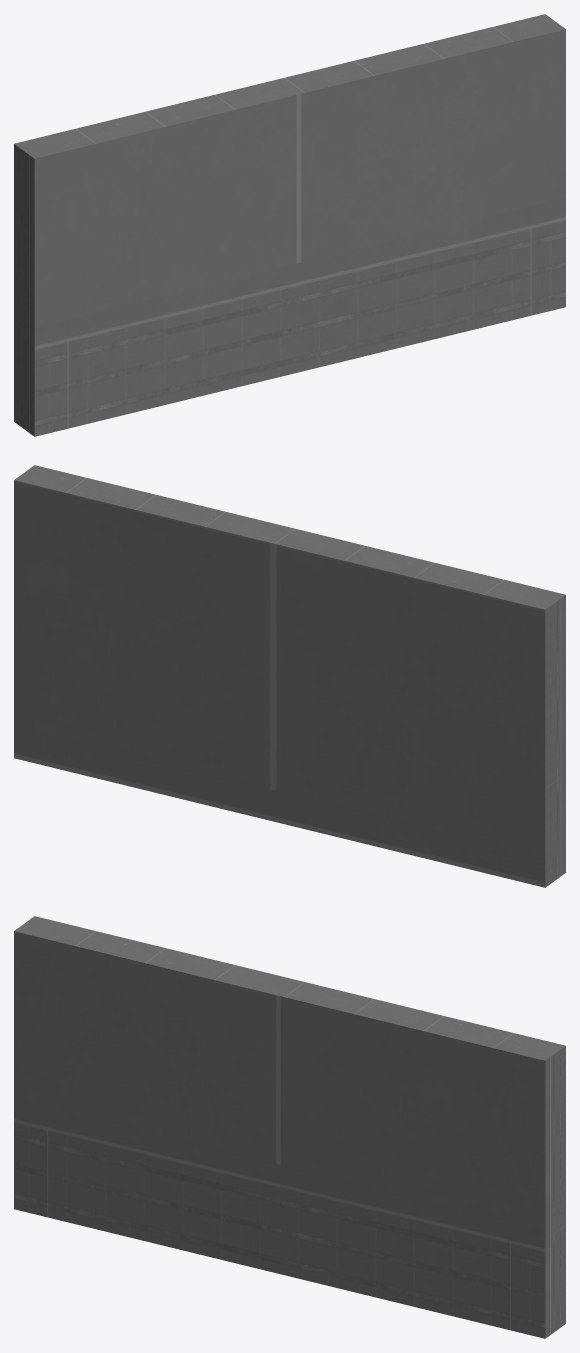
File: SM_module_02.glb
3 renders of one model, top to bottom at view 1: azimuth 30°, elevation 25°; view 2: azimuth 150°, elevation 25°; view 3: azimuth 330°, elevation 25°, orthographic.
Visible parts, largest first — view 1: SM_module_02; view 2: SM_module_02; view 3: SM_module_02.
Part boxes in pixels (x1,y1,x2,y2): SM_module_02: (14,14,565,436); SM_module_02: (14,465,565,887); SM_module_02: (14,916,565,1338).
Size of the model in its own units: 8 by 4 by 0.5379.
Materials: 1 (1 with a texture image).
